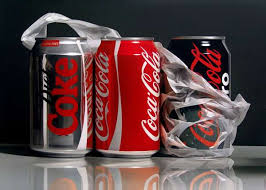can: (171, 28, 242, 175), (93, 27, 168, 164), (30, 22, 101, 162)
